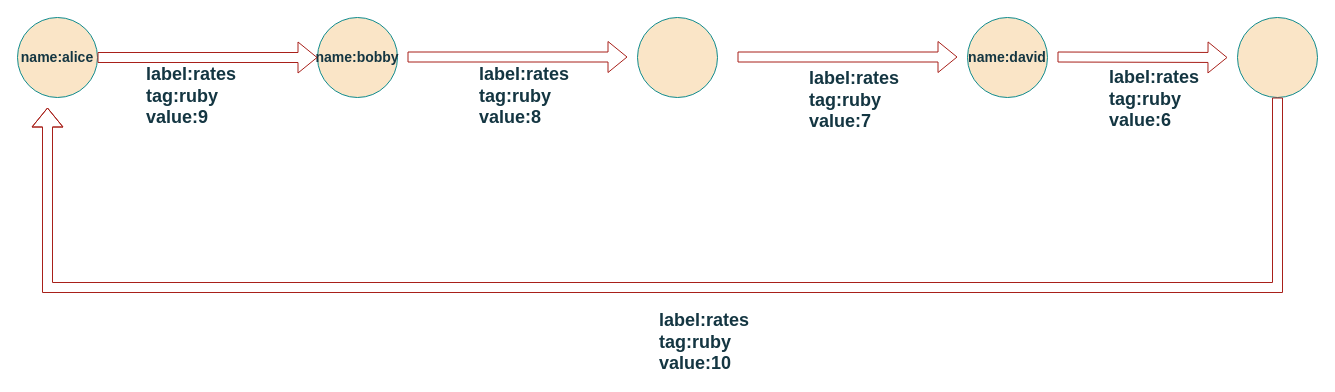
The diagram is 1335 pixels wide and 392 high, and some of its shapes have lost their labels. The shapes that lost their labels are listed below. From the top down, each one's centre as x and y in pixels, then its label:
[677,57]: name:cindy
[1277,57]: name:eliza
